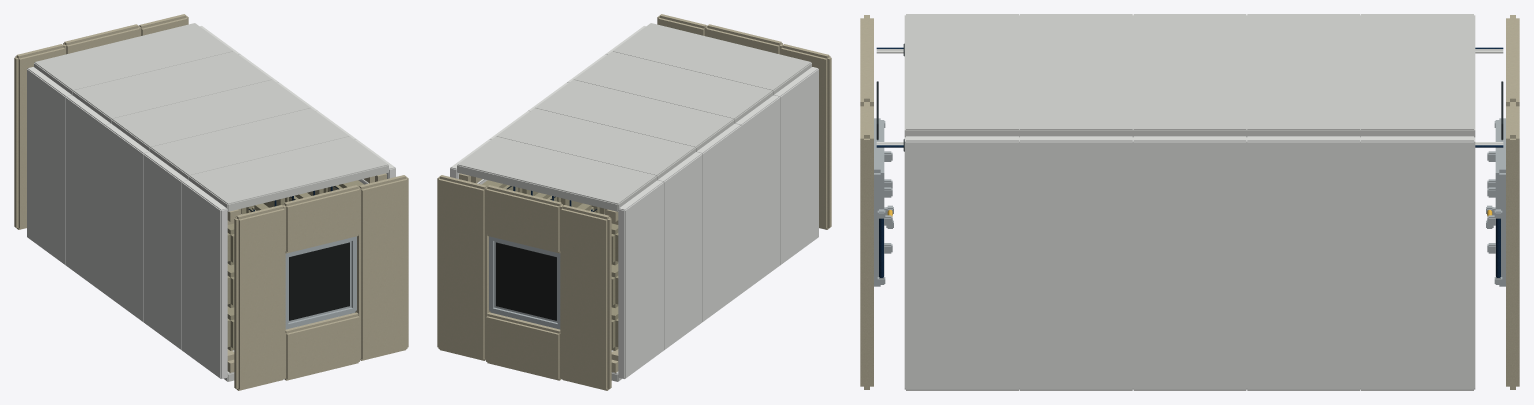
Rendered from leonardo_optimized.glb.
The picture shows the model from 3 angles, left to right: view 1: azimuth 30°, elevation 25°; view 2: azimuth 150°, elevation 25°; view 3: azimuth 270°, elevation 25°; orthographic projection. The views are drawn at different scales.
Visible parts, largest first — view 1: leonardo_interior; view 2: leonardo_interior; view 3: leonardo_interior.
Boxes of the visible parts, x1,y1,x2,y2 form: leonardo_interior: (14,14,408,390); leonardo_interior: (437,14,831,390); leonardo_interior: (860,14,1519,390).
Size of the model in its own units: 3.09 by 3 by 6.84.
11 materials, 3 textured.
